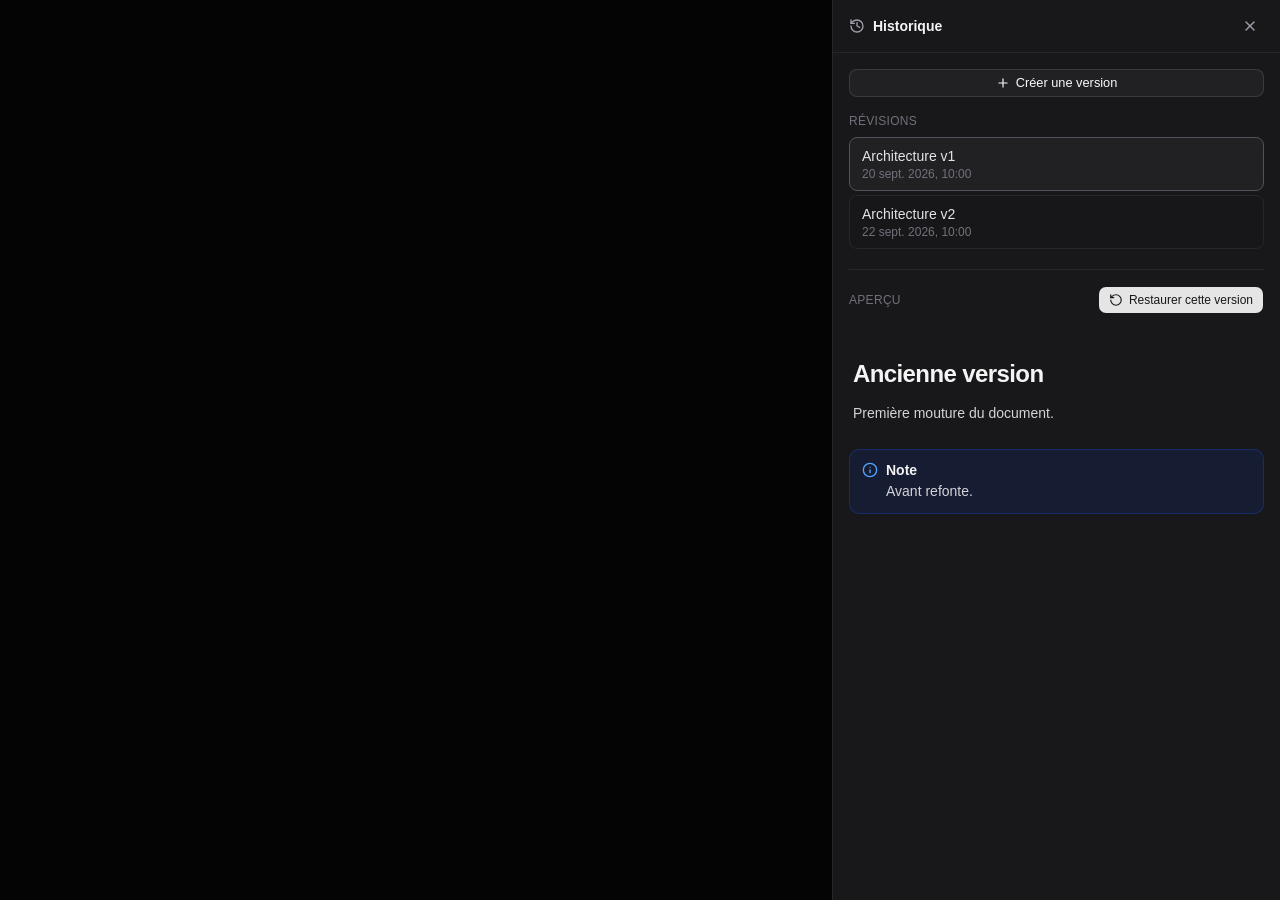
Test: HistoryDrawer › affiche une erreur si la restauration échoue
The image size is (1280, 900).
Step 1. Click the button "Architecture v2 22 sept. 2026, 10:00" → {"x": 909, "y": 214}, box [849,195,1264,249]
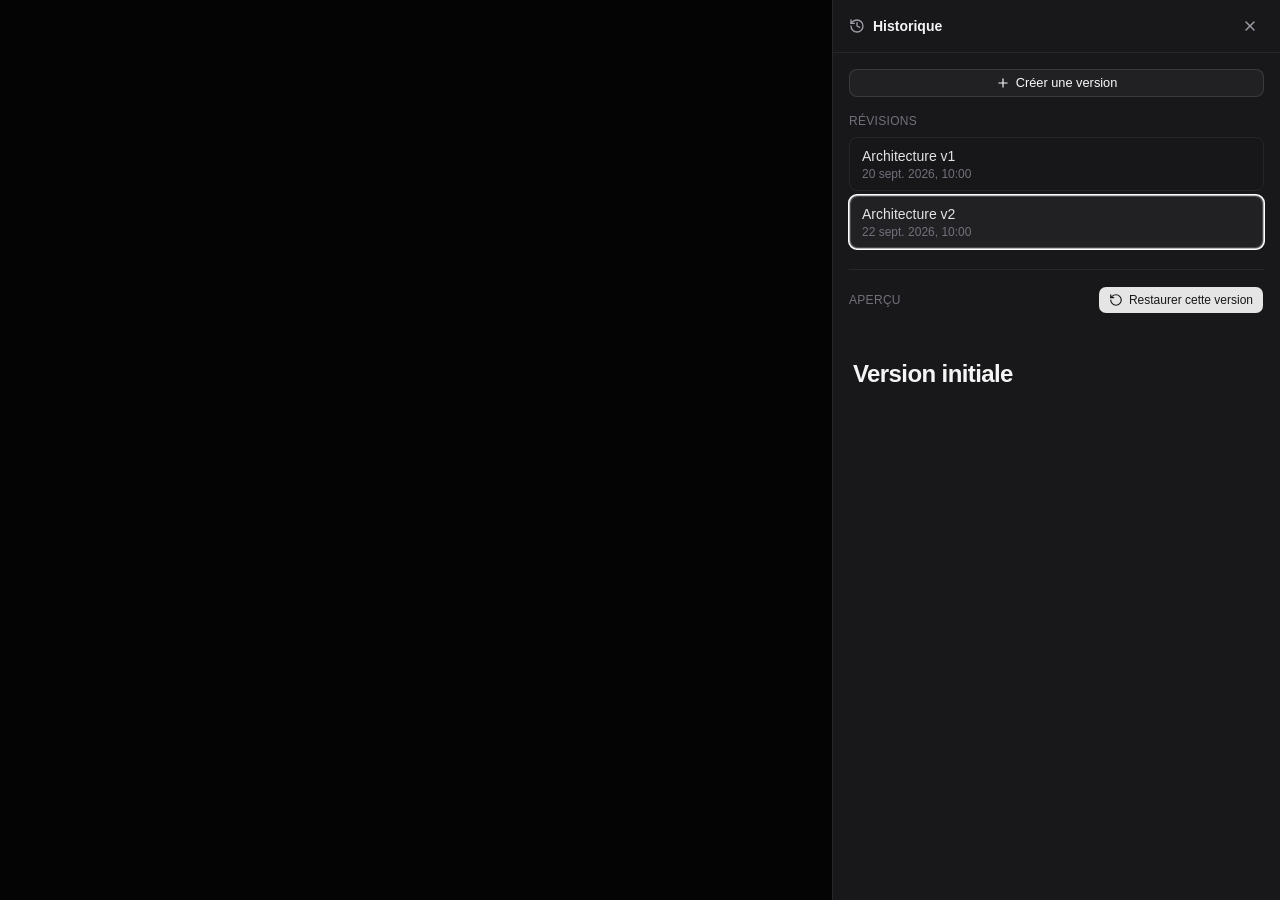
Step 2. Click the button "Restaurer cette version" → {"x": 1181, "y": 300}, box [1098,286,1264,314]
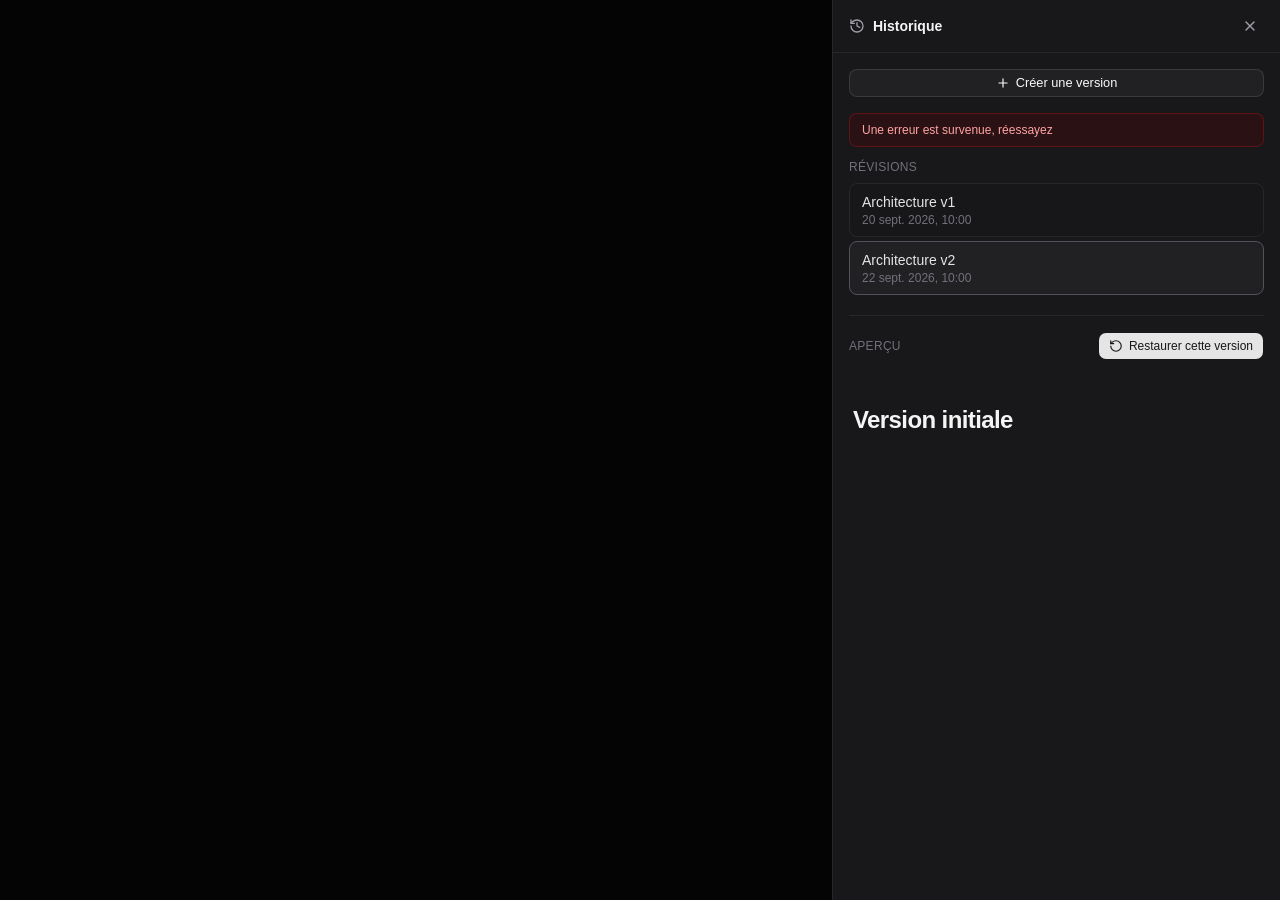
Result: the message reads "Une erreur est survenue, réessayez" at [862,123,1053,137]
